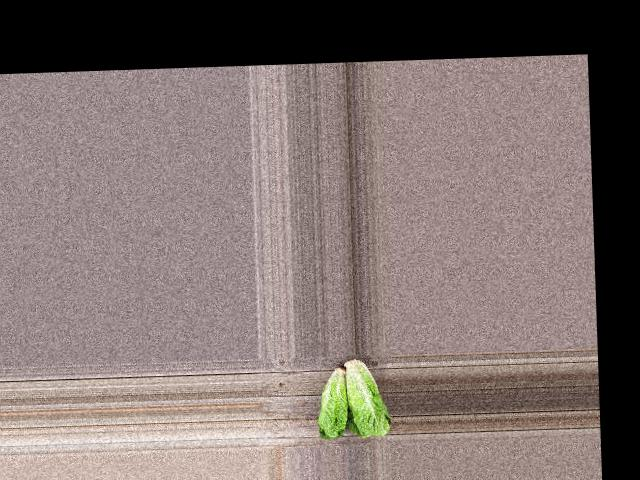lettuce: (343, 354, 393, 441)
